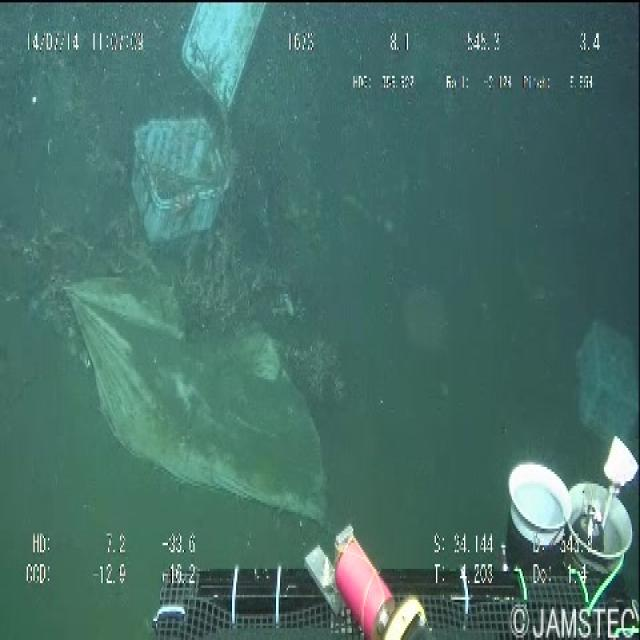plastic: (125, 0, 275, 263)
